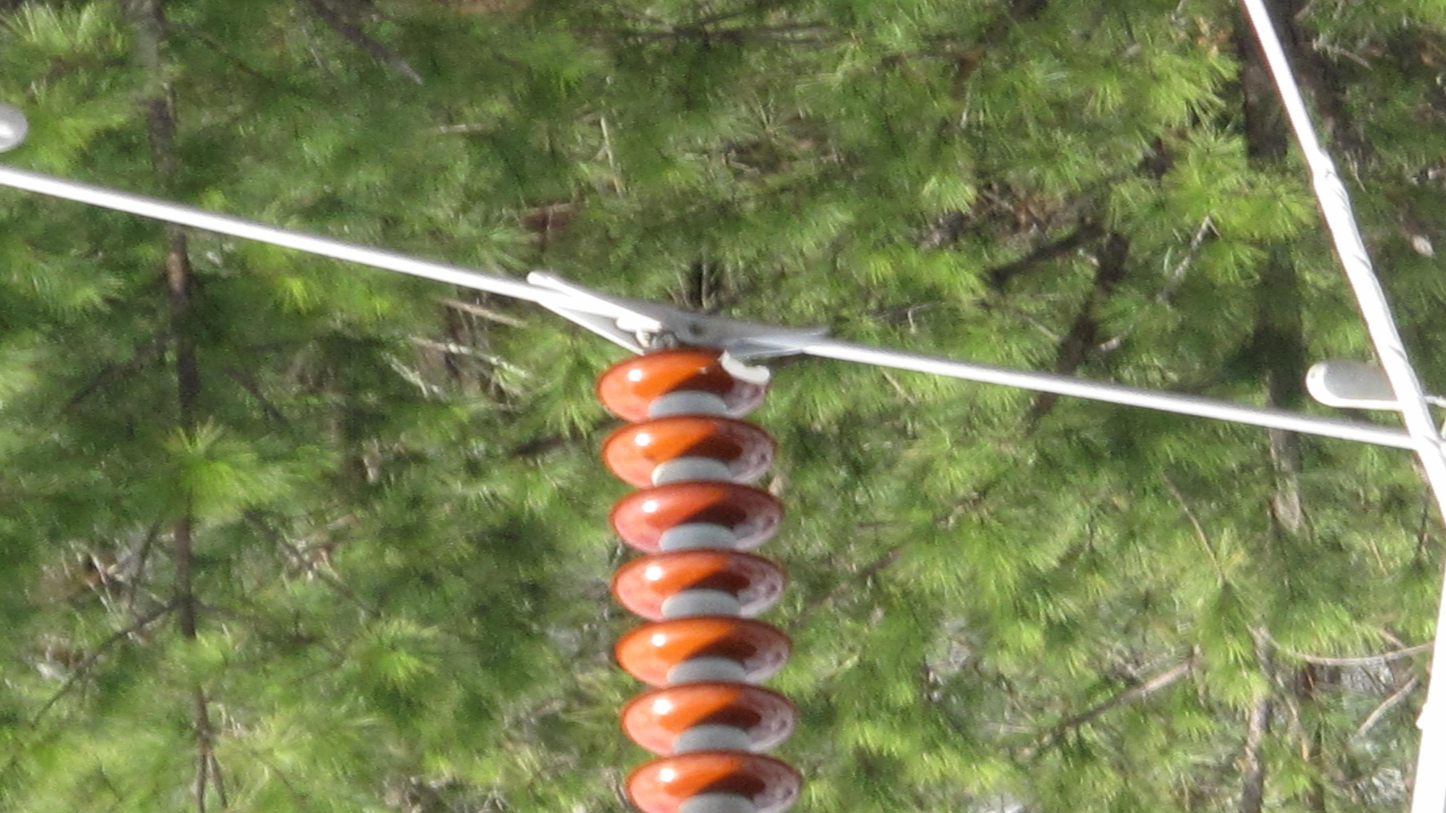insulator: (589, 341, 807, 813)
insulator_breakage: (712, 346, 773, 388)
